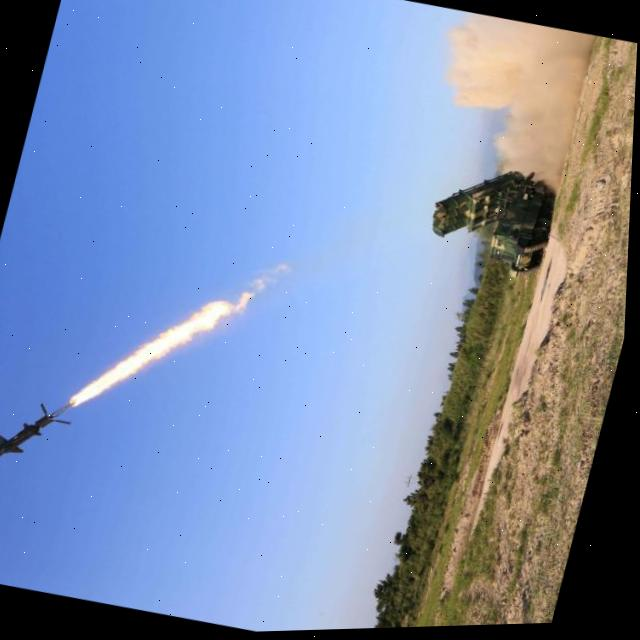missile: (0, 390, 76, 498)
